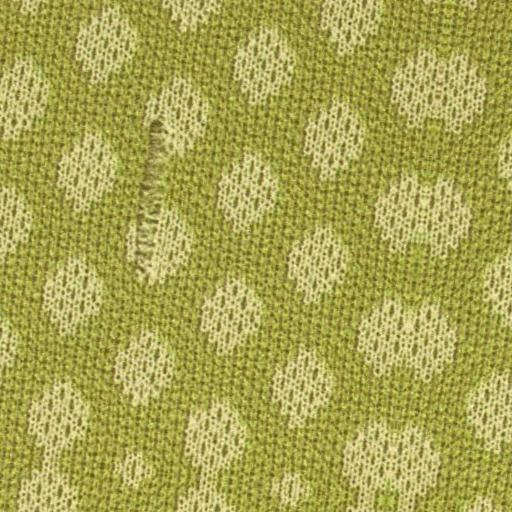slub: (128, 119, 171, 273)
